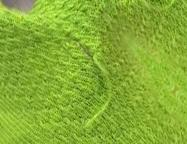snag: (82, 48, 116, 133)
